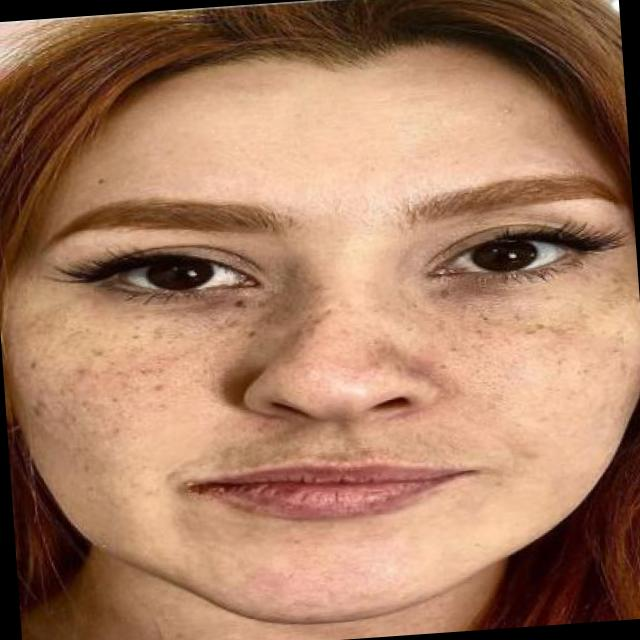melasma: (28, 294, 296, 529), (423, 262, 638, 464), (158, 424, 534, 473)
